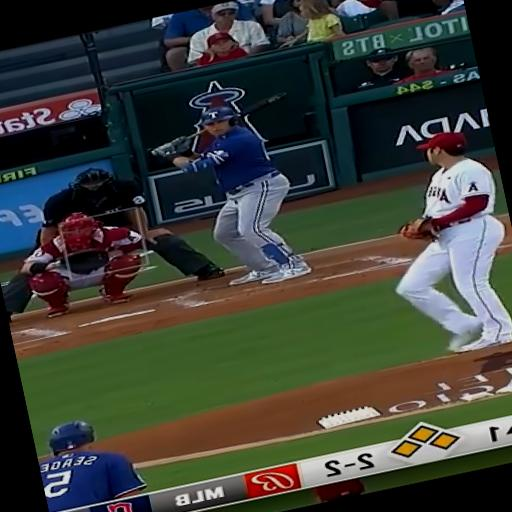bat: (238, 92, 285, 116)
